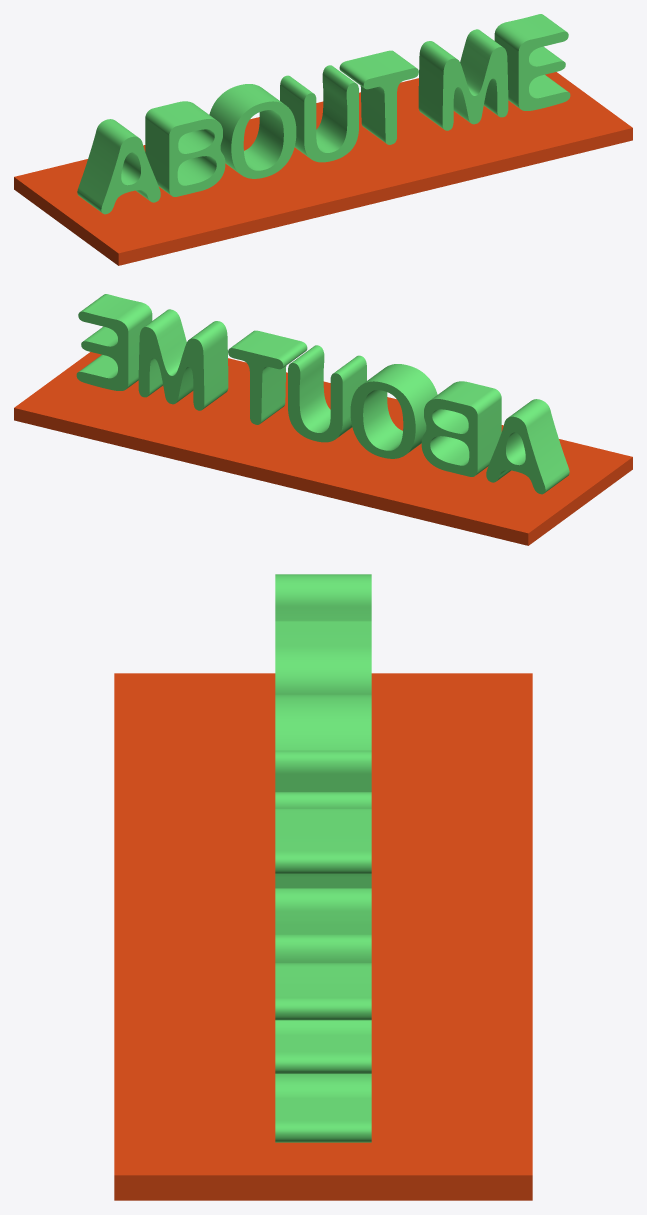
File: abtme.glb
3 renders of one model, top to bottom at view 1: azimuth 30°, elevation 25°; view 2: azimuth 150°, elevation 25°; view 3: azimuth 270°, elevation 25°, orthographic. The views are drawn at different scales.
Parts seen in each view (by area): view 1: Text, Plane; view 2: Text, Plane; view 3: Plane, Text.
Boxes of the visible parts, bbox=[...] form: Text: bbox=[77, 14, 570, 214]; Plane: bbox=[14, 72, 632, 265]; Text: bbox=[76, 294, 569, 494]; Plane: bbox=[14, 352, 632, 545]; Plane: bbox=[114, 673, 532, 1200]; Text: bbox=[275, 574, 371, 1142].
Size of the model in its own units: 5.68 by 0.9341 by 2.
